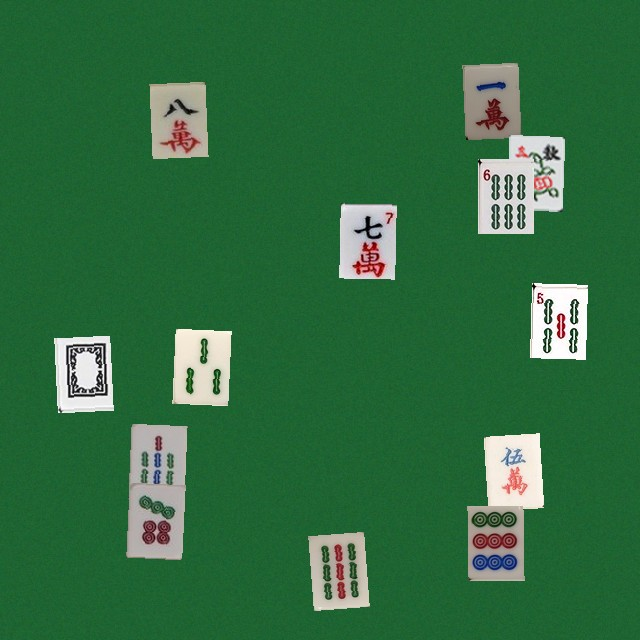tile: (128, 423, 184, 498), (483, 433, 539, 508), (462, 62, 518, 137), (506, 134, 562, 209), (172, 328, 228, 403), (126, 482, 182, 557), (308, 531, 364, 606), (477, 158, 533, 233), (149, 81, 205, 156), (529, 283, 585, 358), (467, 505, 523, 580), (339, 203, 395, 278), (54, 335, 110, 410)
